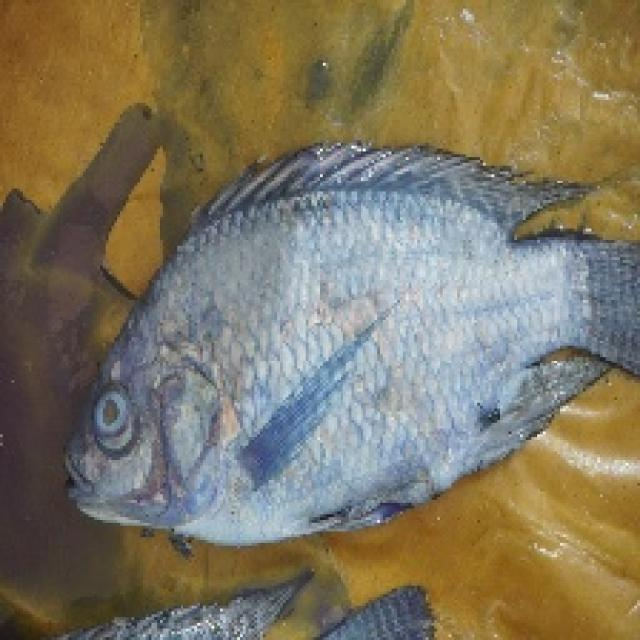Non-Fresh: (145, 227, 492, 525), (86, 380, 150, 454)
